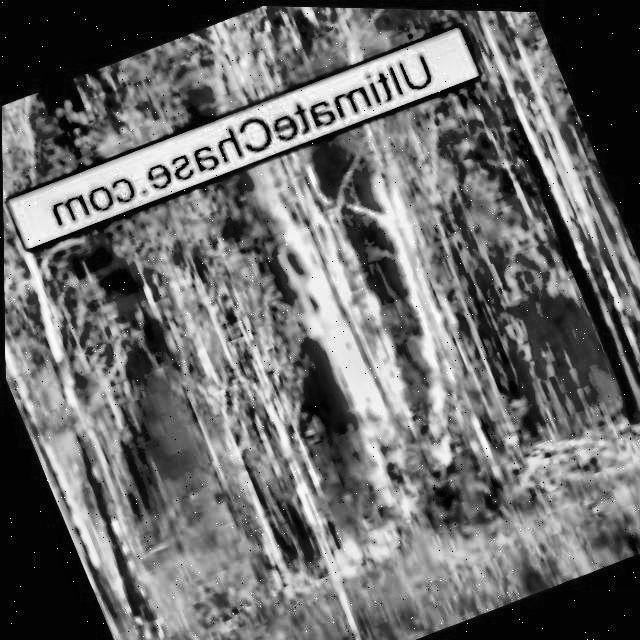Fire: (224, 122, 511, 516), (473, 40, 636, 322), (180, 5, 287, 114), (309, 508, 418, 592)
